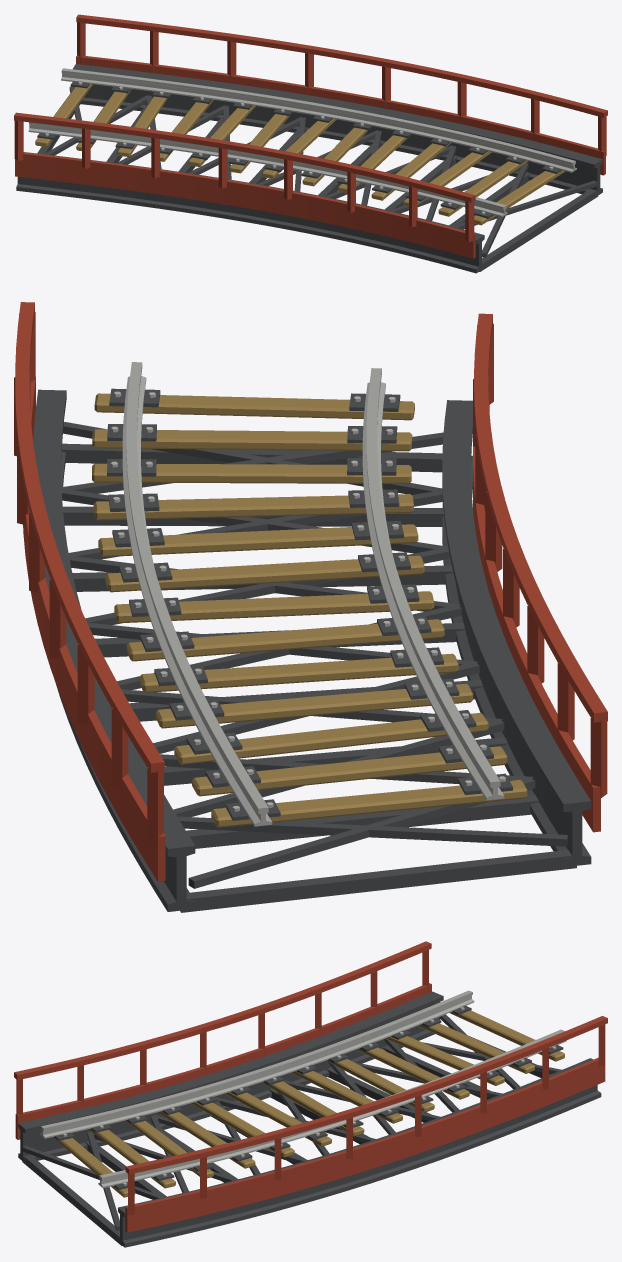
Rendered from elevated-curved-rail-b.glb.
3 views of the same model, one above another, from view 1: azimuth 30°, elevation 25°; view 2: azimuth 150°, elevation 25°; view 3: azimuth 270°, elevation 25° (orthographic). The views are drawn at different scales.
Parts seen in each view (by area): view 1: body; view 2: body; view 3: body.
Part boxes in pixels (left/top/right/bottom): body: left=14, top=14, right=607, bottom=273; body: left=14, top=302, right=607, bottom=912; body: left=14, top=941, right=607, bottom=1247.
Bounding box in the file's own units: 4.85 × 0.825 × 5.33.
